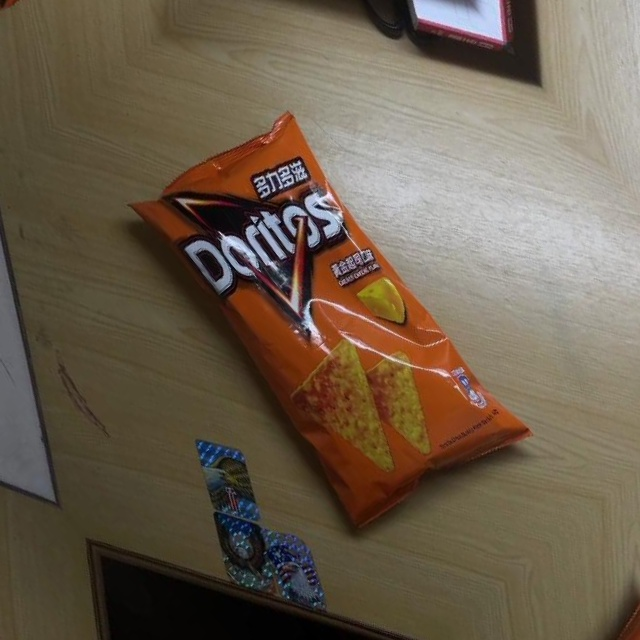Doritos: (101, 87, 551, 564)
